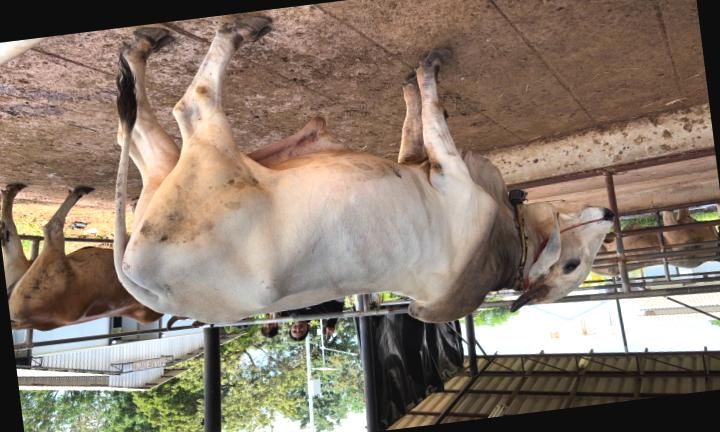Brahman: (114, 18, 612, 323)
